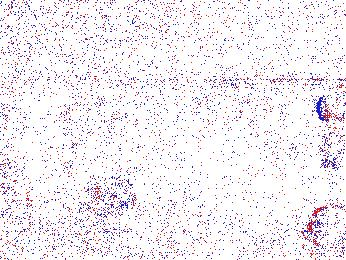flame jellyfish: (316, 85, 346, 169), (300, 205, 346, 252), (92, 175, 137, 219)
